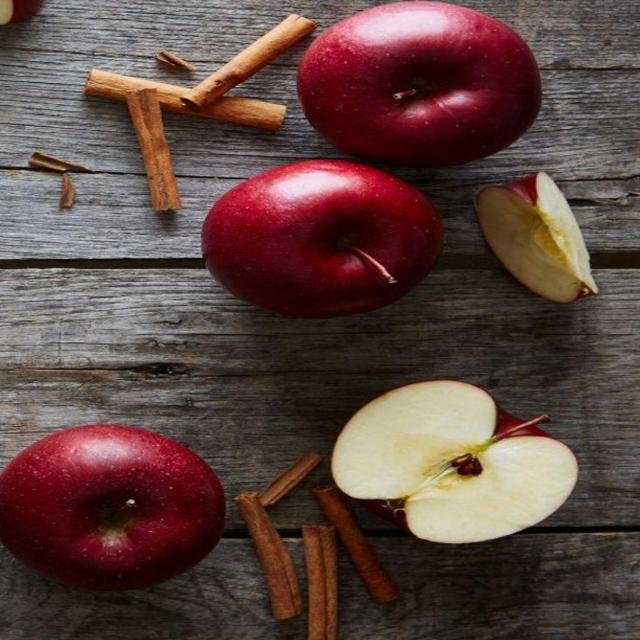apple: (332, 380, 582, 544), (302, 4, 544, 162), (203, 158, 441, 318), (1, 426, 222, 594)
